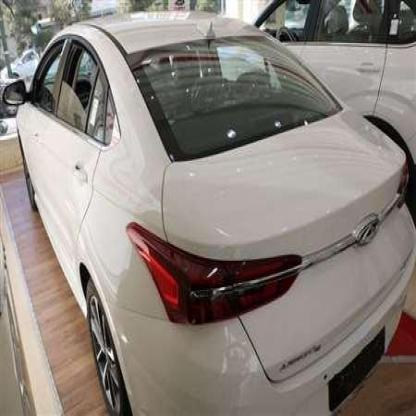Car: (6, 19, 416, 416), (231, 0, 416, 186)
